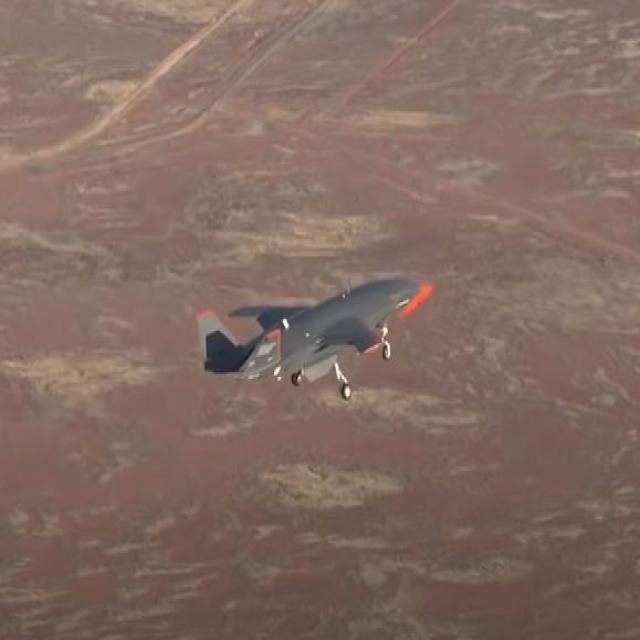iha: (195, 267, 433, 398)
